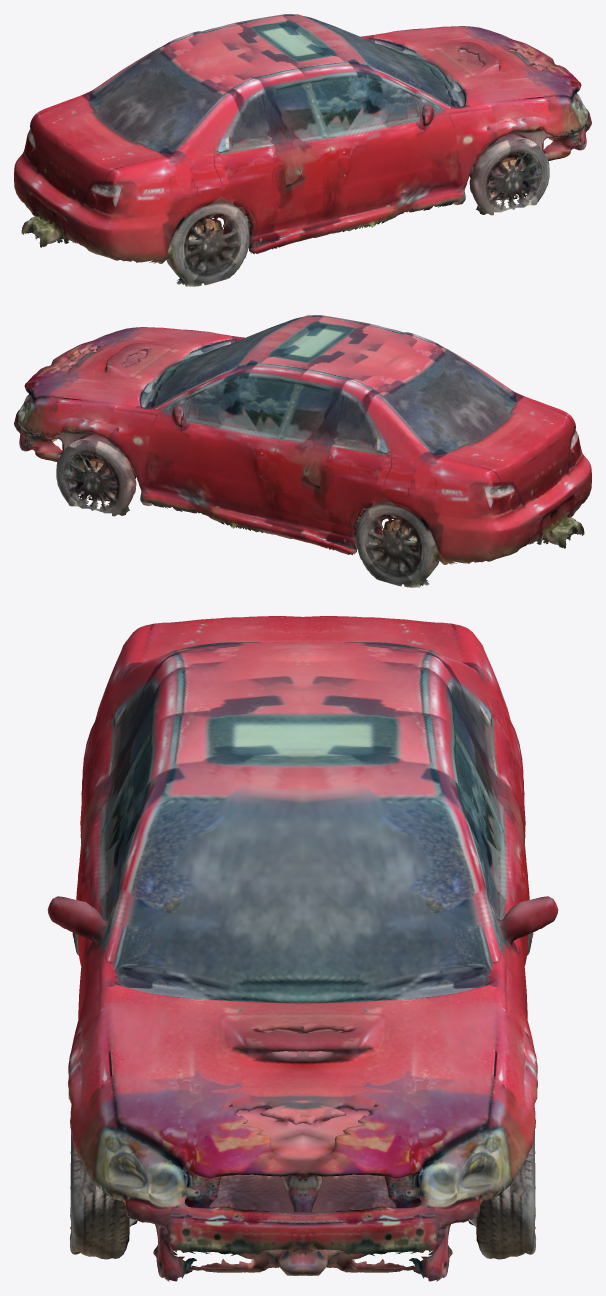
File: subi.glb
The picture shows the model from 3 angles, top to bottom: view 1: azimuth 30°, elevation 25°; view 2: azimuth 150°, elevation 25°; view 3: azimuth 270°, elevation 25°; orthographic projection. The views are drawn at different scales.
Visible parts, largest first — view 1: Subaru_Scan; view 2: Subaru_Scan; view 3: Subaru_Scan.
Part boxes in pixels (x1,y1,x2,y2): Subaru_Scan: [14, 14, 591, 286]; Subaru_Scan: [14, 315, 591, 587]; Subaru_Scan: [47, 616, 558, 1281].
Bounding box in the file's own units: 4.41 × 1.35 × 1.84.
Materials: 1 (1 with a texture image).
